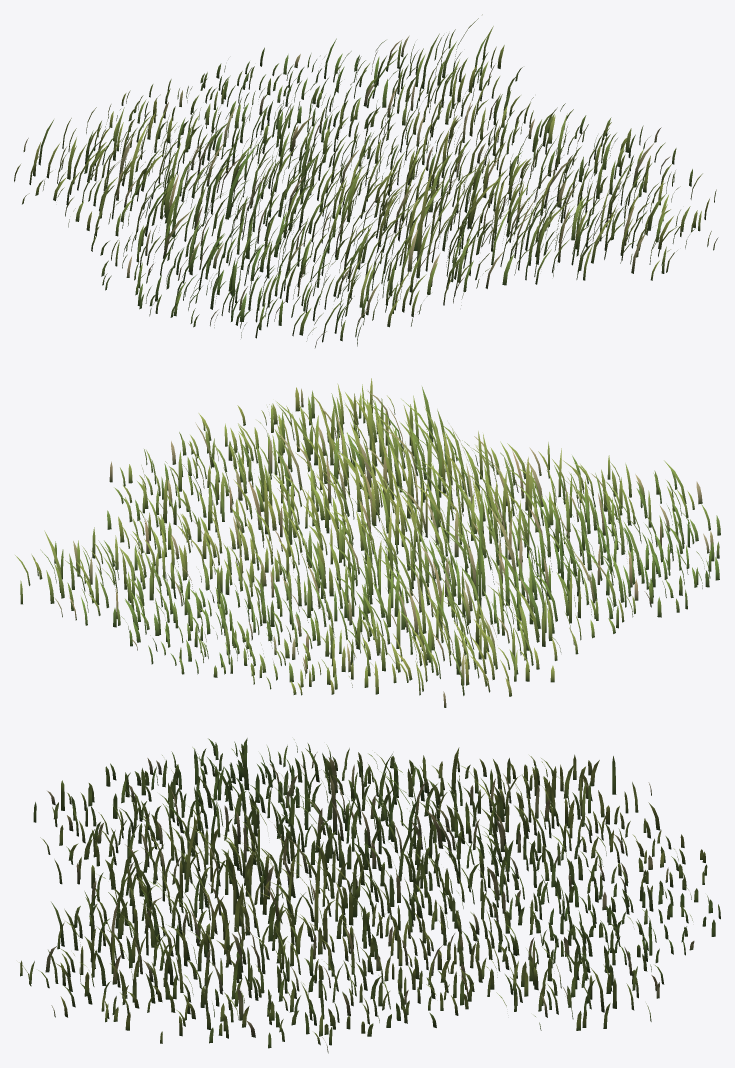
Rendered from eco_turf_meadow_a_LOD0.glb.
The picture shows the model from 3 angles, top to bottom: view 1: azimuth 30°, elevation 25°; view 2: azimuth 150°, elevation 25°; view 3: azimuth 270°, elevation 25°; orthographic projection. The views are drawn at different scales.
Parts seen in each view (by area): view 1: eco_turf_meadow_a_LOD0; view 2: eco_turf_meadow_a_LOD0; view 3: eco_turf_meadow_a_LOD0.
Boxes of the visible parts, box(x1,y1,x2,y2) form: eco_turf_meadow_a_LOD0: box(14, 14, 718, 347); eco_turf_meadow_a_LOD0: box(15, 378, 720, 707); eco_turf_meadow_a_LOD0: box(19, 738, 720, 1053).
Size of the model in its own units: 1.92 by 0.2942 by 1.9.
